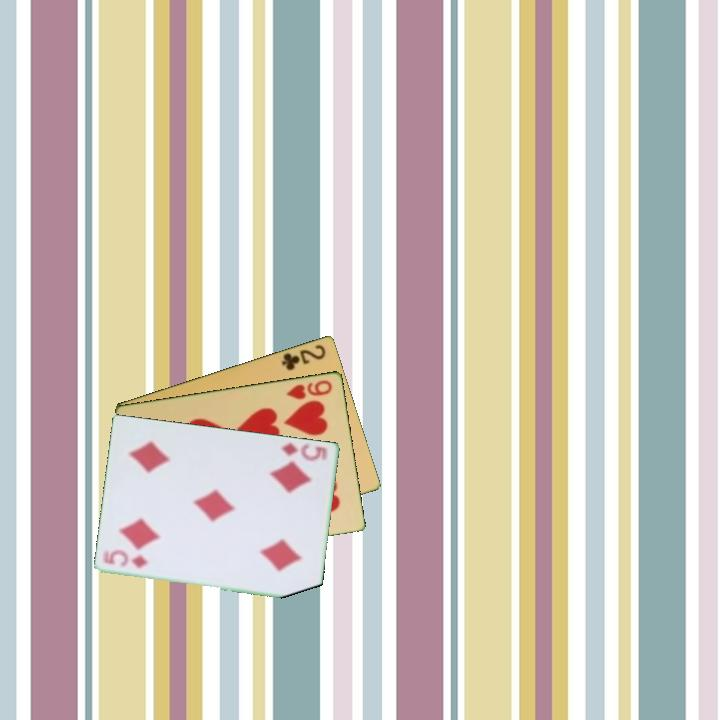2c: (278, 341, 329, 373)
5d: (278, 439, 332, 464), (100, 549, 151, 571)
9h: (283, 376, 335, 402)
